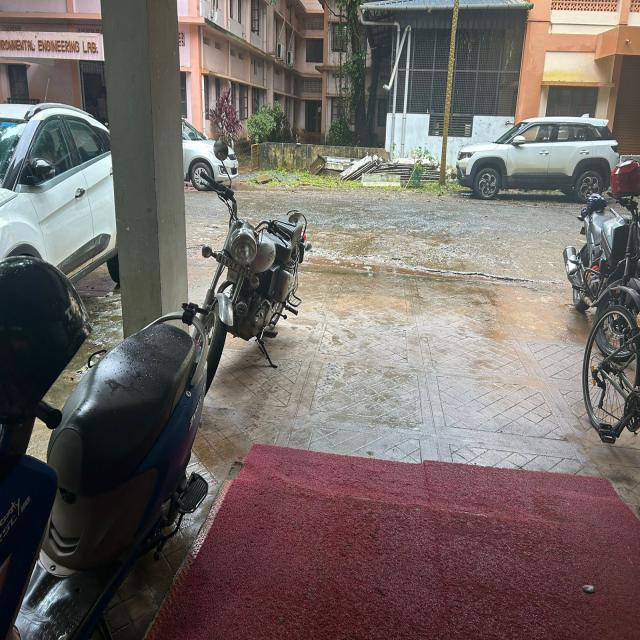car ahead at: (451, 104, 620, 203)
motorcycle ahead at: (188, 156, 307, 386)
